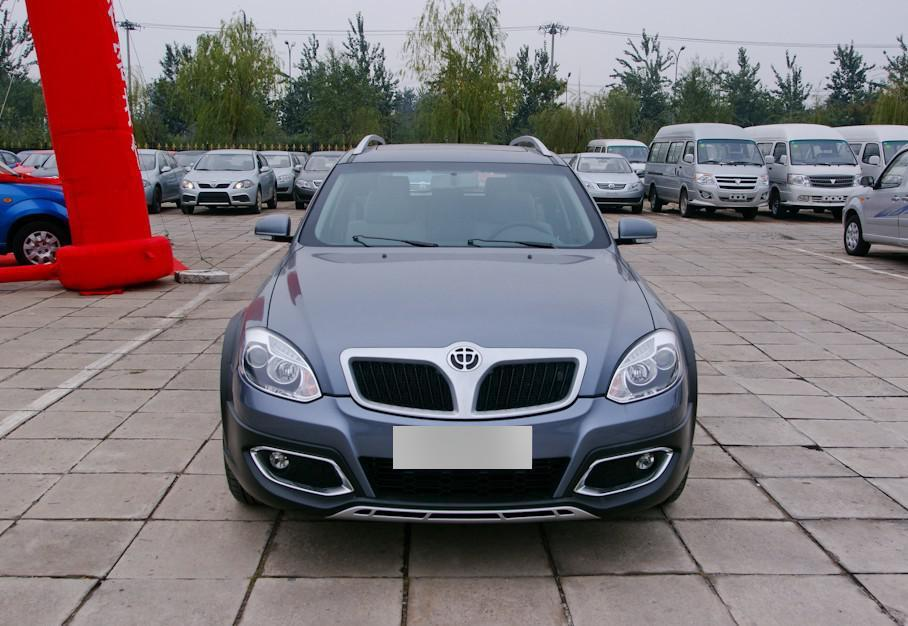Wagon: (220, 134, 698, 524)
